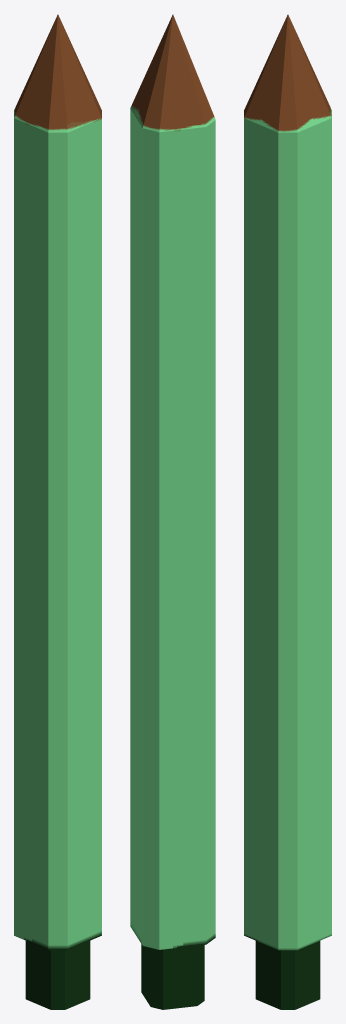
Rendered from Pencil-1.fbx.
The picture shows the model from 3 angles, left to right: view 1: azimuth 90°, elevation 25°; view 2: azimuth 150°, elevation 25°; view 3: azimuth 270°, elevation 25°; orthographic projection.
Parts seen in each view (by area): view 1: Pencil; view 2: Pencil; view 3: Pencil.
Boxes of the visible parts, left/top/right/bottom form: Pencil: left=14, top=14, right=101, bottom=1009; Pencil: left=130, top=14, right=215, bottom=1009; Pencil: left=244, top=14, right=331, bottom=1009.
Bounding box in the file's own units: 13.69 × 169 × 13.69.
1 material, 1 textured.
